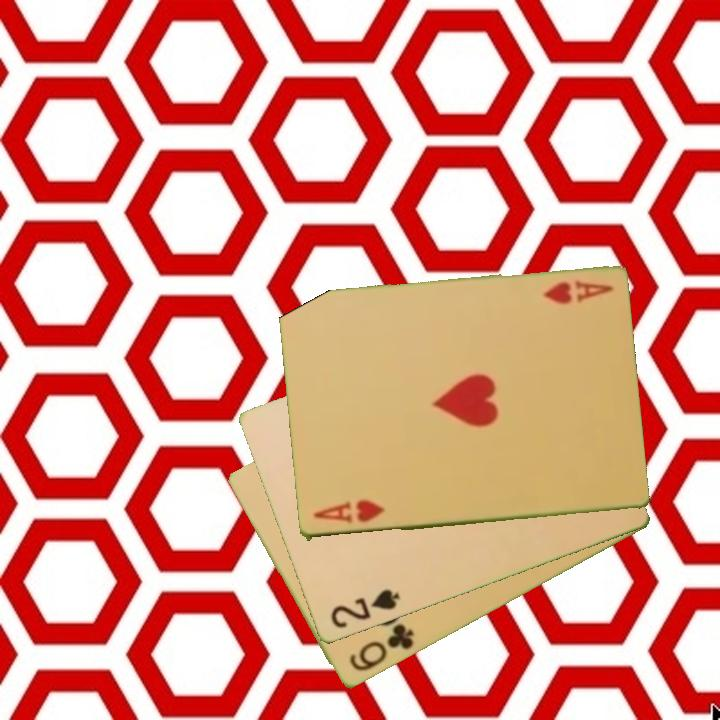2s: (326, 586, 403, 632)
6c: (346, 620, 417, 675)
Ah: (309, 497, 387, 527), (539, 277, 616, 306)
